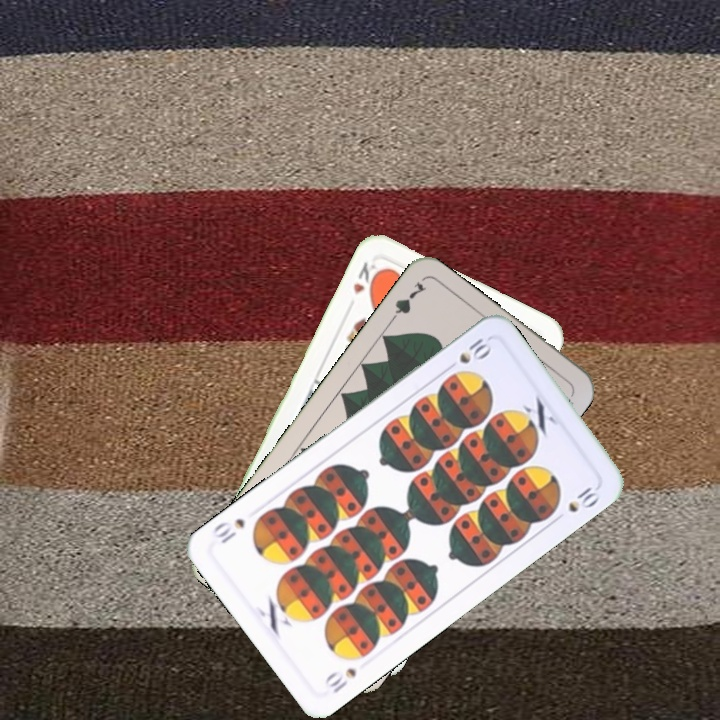G7: (383, 277, 429, 328)
HK: (349, 257, 383, 298)
S10: (441, 334, 495, 374), (320, 663, 359, 696)
